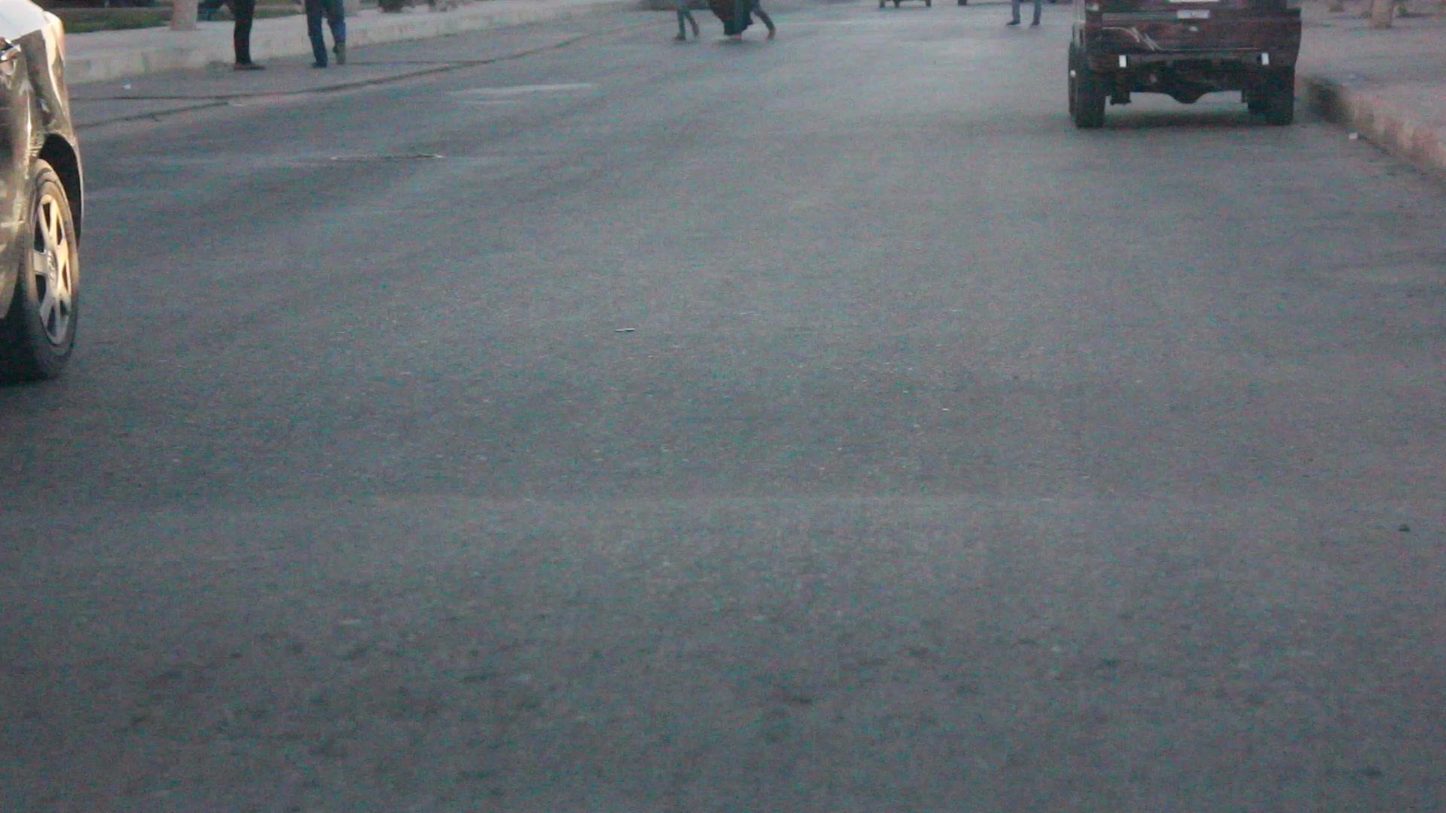Bump: (0, 489, 1445, 812)
